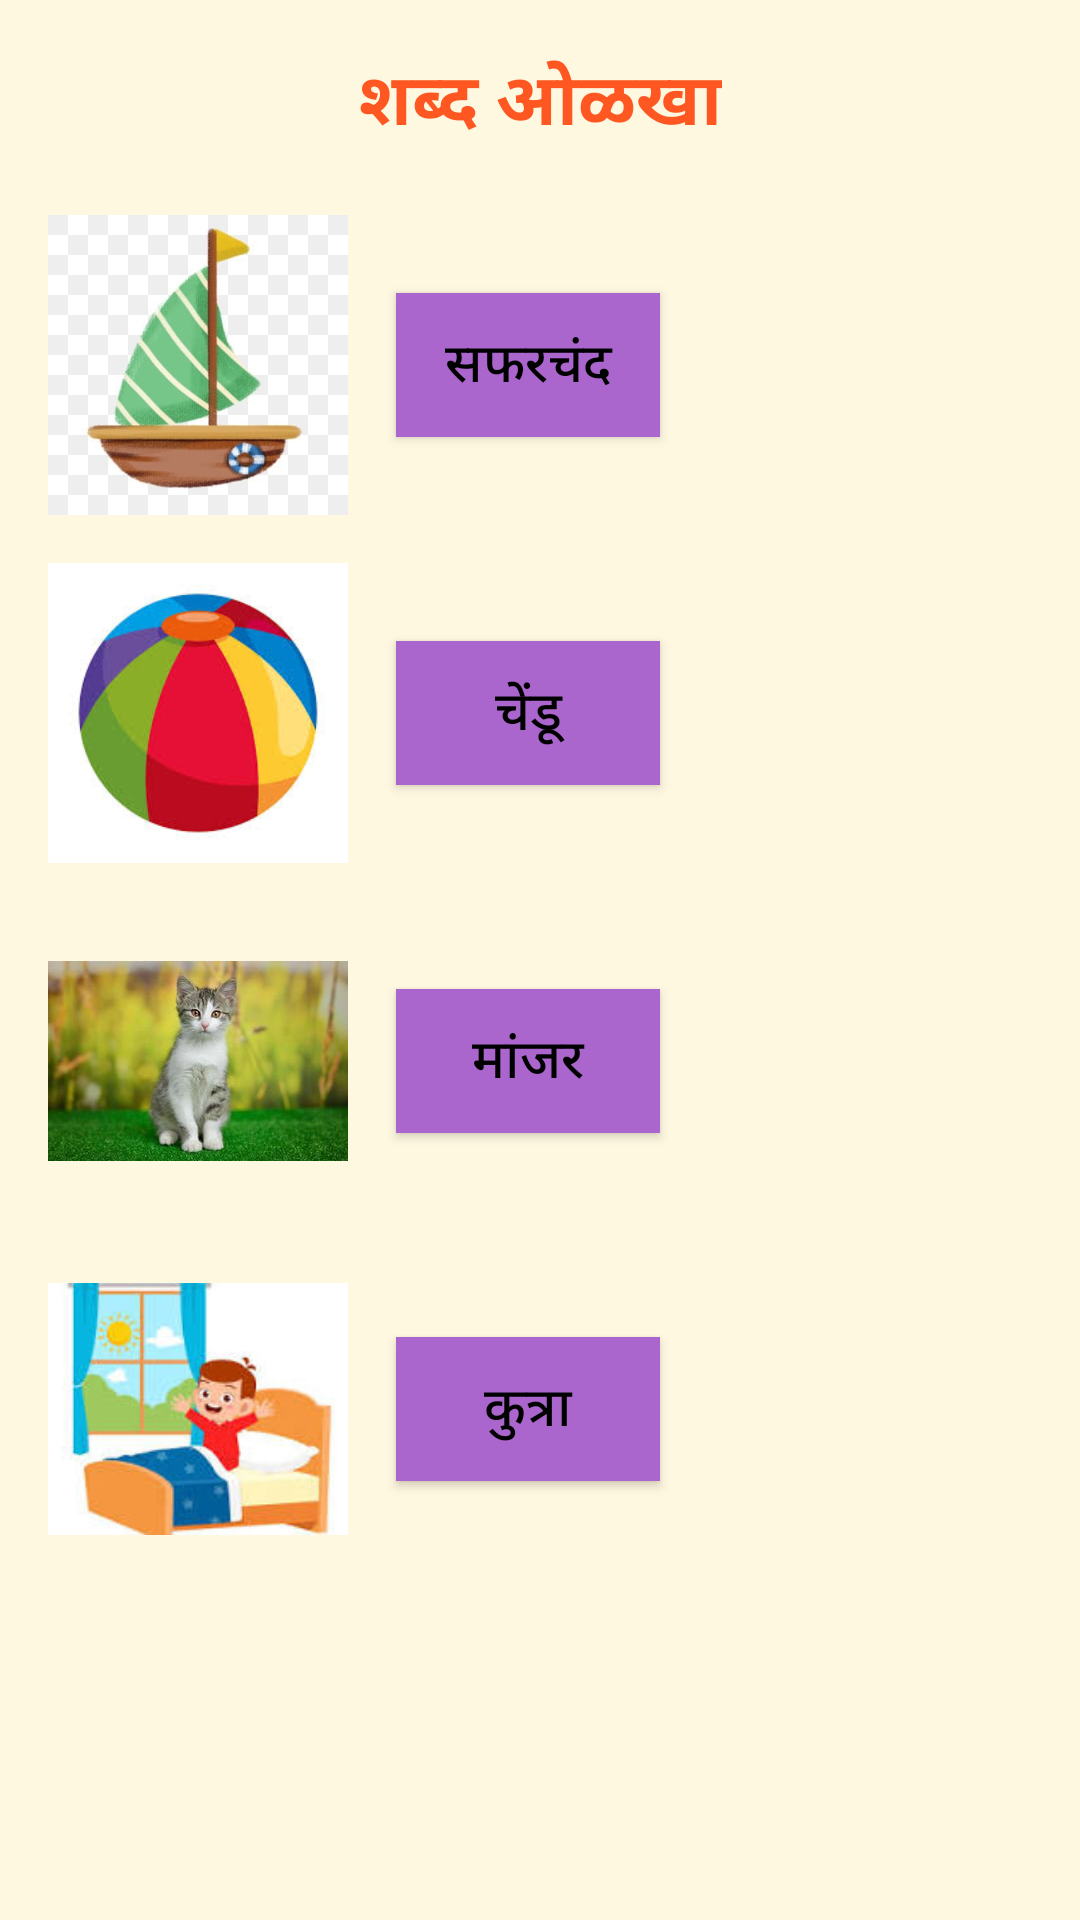

Icon click points for this 1080w x 1920h phone screenshot, format (x,y):
Ball: (198,713)
Cat: (198,1061)
